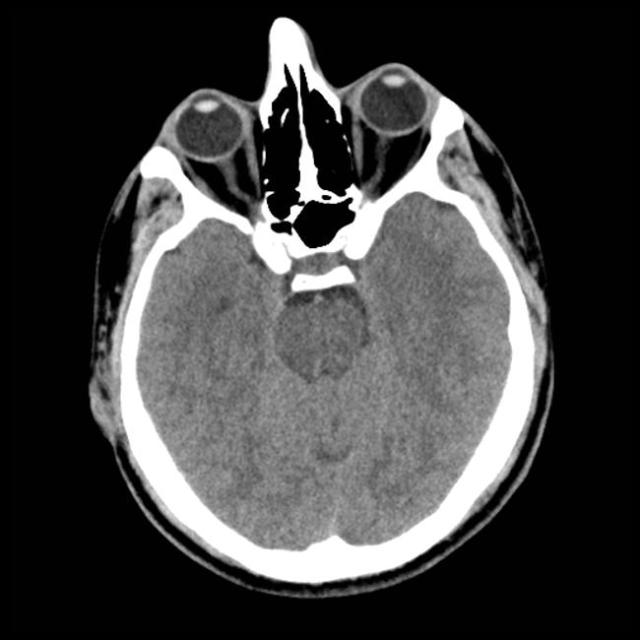lesion: (84, 16, 558, 596)
